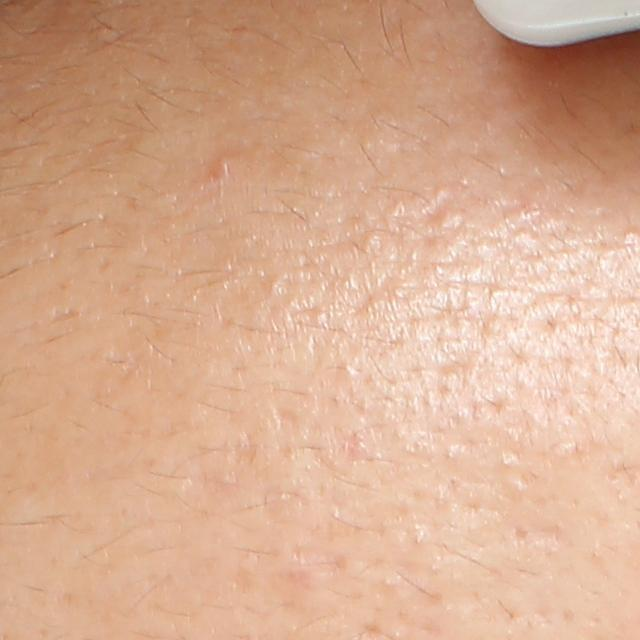papule: (210, 150, 236, 176)
